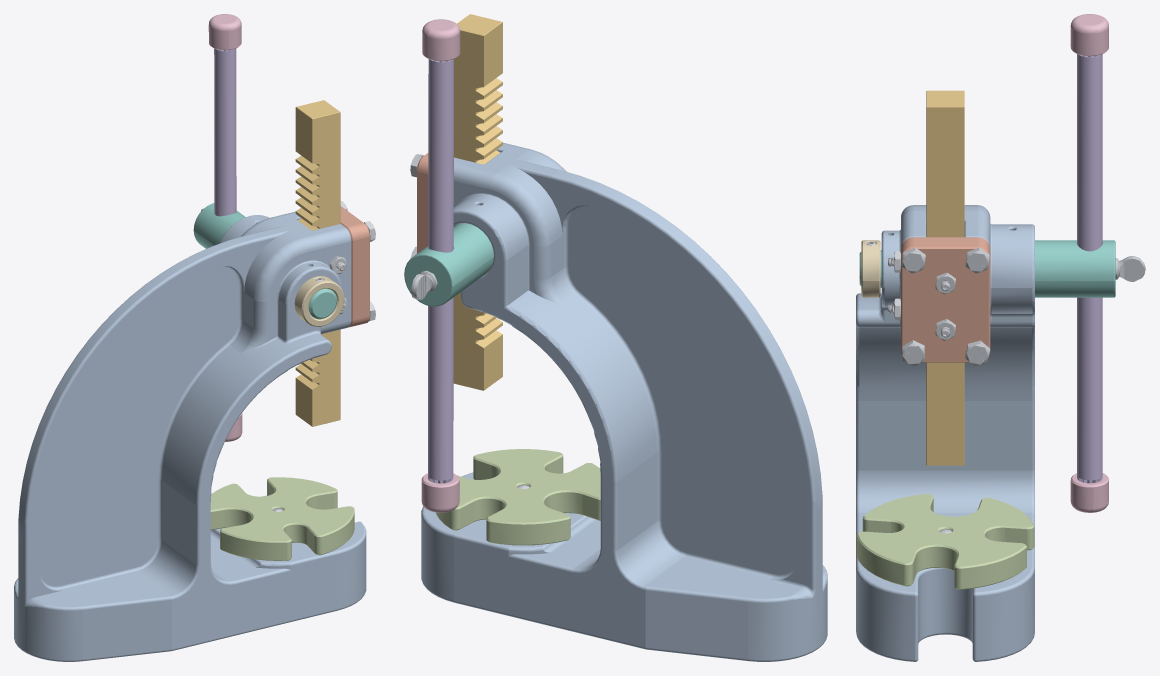
3 views of the same model, side by side, from view 1: azimuth 30°, elevation 25°; view 2: azimuth 150°, elevation 25°; view 3: azimuth 270°, elevation 25° (orthographic). The views are drawn at different scales.
Visible parts, largest first — view 1: A1001, A1005, A1002, A1006, A1004, A1003, A1007, A1008; view 2: A1001, A1005, A1002, A1006, A1003, A1008 (×2), A1004; view 3: A1001, A1005, A1006, A1002, A1004, A1003, A1008 (×2), A1012 (×4), A1007, A1010.
Part boxes in pixels (x1,y1,x2,y2): A1001: (14, 211, 366, 661); A1005: (210, 477, 354, 560); A1002: (295, 100, 340, 426); A1006: (214, 48, 236, 216); A1004: (340, 206, 369, 327); A1003: (193, 203, 336, 319); A1007: (294, 276, 344, 326); A1008: (208, 14, 241, 50); A1001: (421, 142, 827, 661); A1005: (436, 449, 600, 545); A1002: (453, 14, 502, 390); A1006: (428, 59, 453, 483); A1003: (404, 223, 493, 306); A1008 (×2): (421, 19, 460, 512); A1004: (417, 153, 428, 253); A1001: (856, 205, 1034, 661); A1005: (856, 493, 1034, 589); A1006: (1077, 54, 1102, 483); A1002: (926, 90, 964, 465); A1004: (901, 237, 990, 362); A1003: (859, 240, 1115, 297); A1008 (×2): (1070, 14, 1108, 512); A1012 (×4): (901, 247, 989, 366); A1007: (861, 240, 880, 297); A1010: (1115, 256, 1145, 281).
Bounding box in the file's own units: 227 × 333 × 144.
